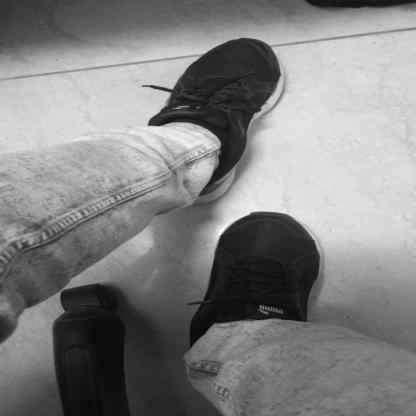ankle: (215, 317, 221, 321), (234, 141, 237, 144)
heel: (203, 194, 206, 197), (193, 339, 197, 341)
left_foot: (148, 39, 286, 207)
pinky: (213, 52, 216, 55), (312, 242, 316, 244)
right_foot: (190, 212, 325, 351)
toe: (267, 52, 272, 55), (235, 223, 239, 226)
